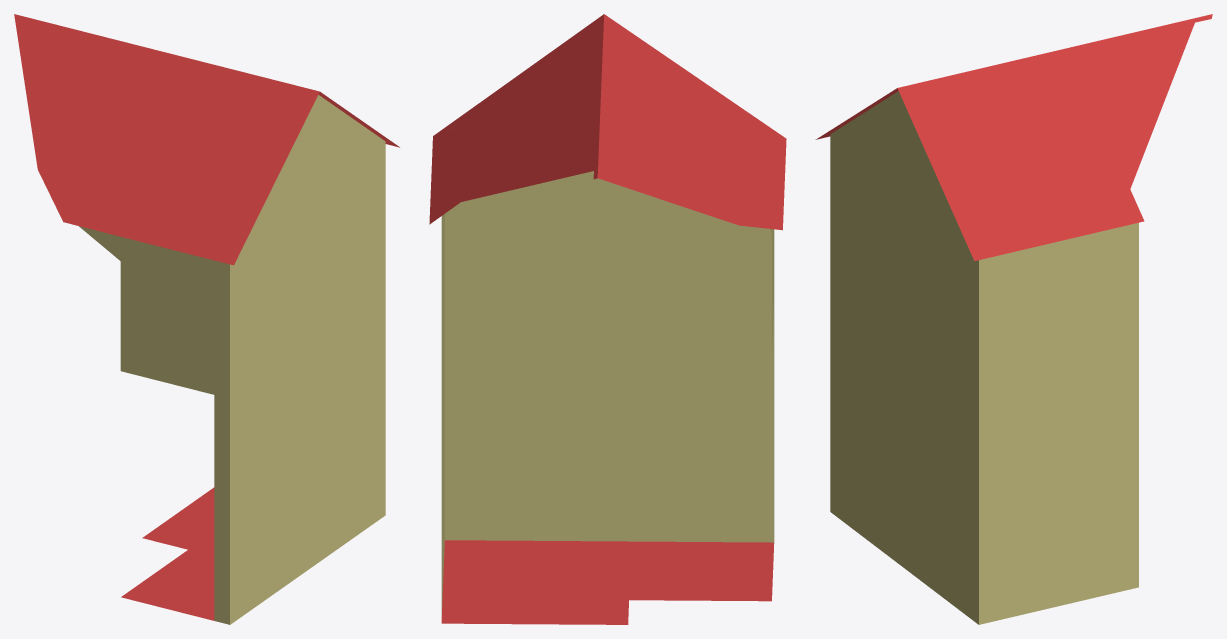
The picture shows the model from 3 angles, left to right: view 1: azimuth 30°, elevation 25°; view 2: azimuth 150°, elevation 25°; view 3: azimuth 270°, elevation 25°; orthographic projection. The views are drawn at different scales.
Size of the model in its own units: 8.58 by 8.87 by 11.93.
